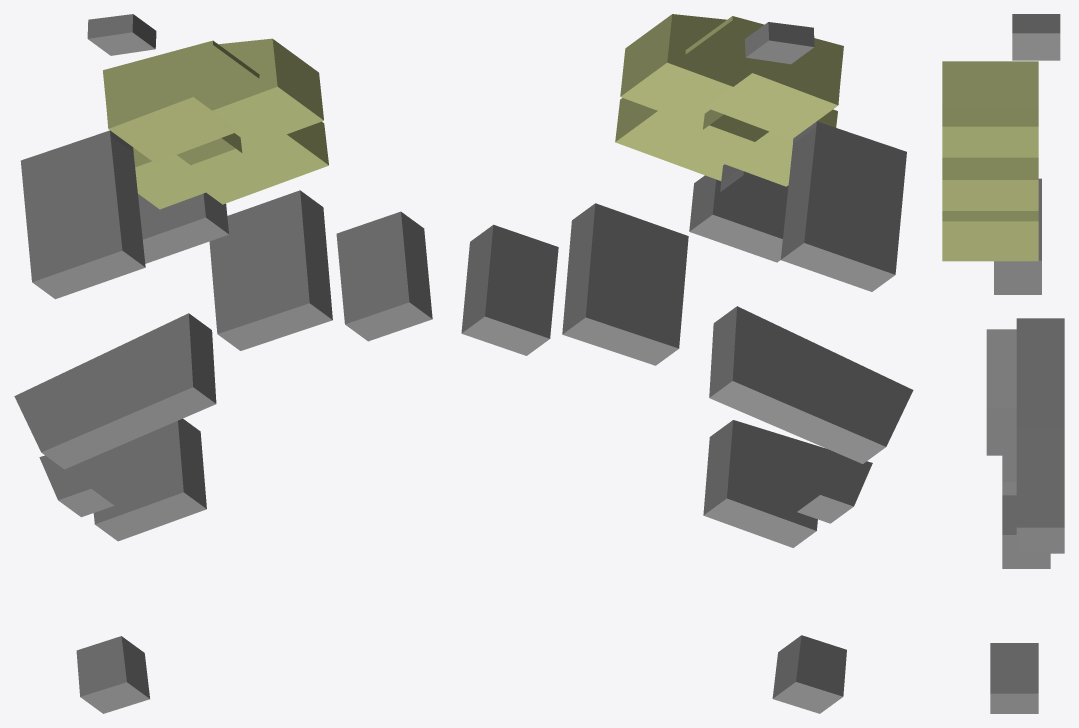
3 views of the same model, side by side, from view 1: azimuth 30°, elevation 25°; view 2: azimuth 150°, elevation 25°; view 3: azimuth 270°, elevation 25° (orthographic). The views are drawn at different scales.
Visible parts, largest first — view 1: 0_1_2_0_0_2_2_0_1; view 2: 0_1_2_0_0_2_2_0_1; view 3: 0_1_2_0_0_2_2_0_1.
Boxes of the visible parts, box(x1,y1,x2,y2) form: 0_1_2_0_0_2_2_0_1: box(14, 14, 432, 713); 0_1_2_0_0_2_2_0_1: box(461, 14, 913, 713); 0_1_2_0_0_2_2_0_1: box(942, 14, 1064, 713).
Bounding box in the file's own units: 30.52 × 47.36 × 7.63.
